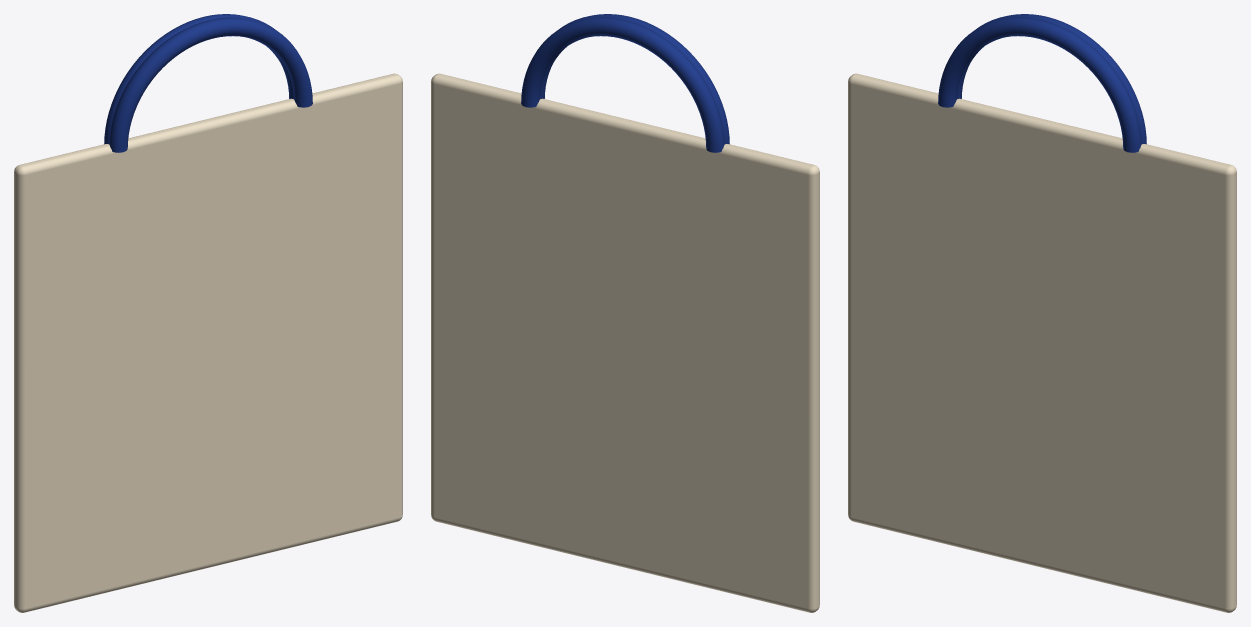
File: tote-bag.glb
3 renders of one model, left to right at view 1: azimuth 30°, elevation 25°; view 2: azimuth 150°, elevation 25°; view 3: azimuth 330°, elevation 25°, orthographic.
Visible parts, largest first — view 1: Bag, Handles; view 2: Bag, Handles; view 3: Bag, Handles.
Boxes of the visible parts, bbox=[...] form: Bag: bbox=[14, 73, 402, 612]; Handles: bbox=[104, 14, 312, 152]; Bag: bbox=[431, 73, 819, 612]; Handles: bbox=[521, 14, 729, 152]; Bag: bbox=[848, 73, 1236, 612]; Handles: bbox=[938, 14, 1146, 152].
Size of the model in its own units: 0.38 by 0.5152 by 0.0244.
